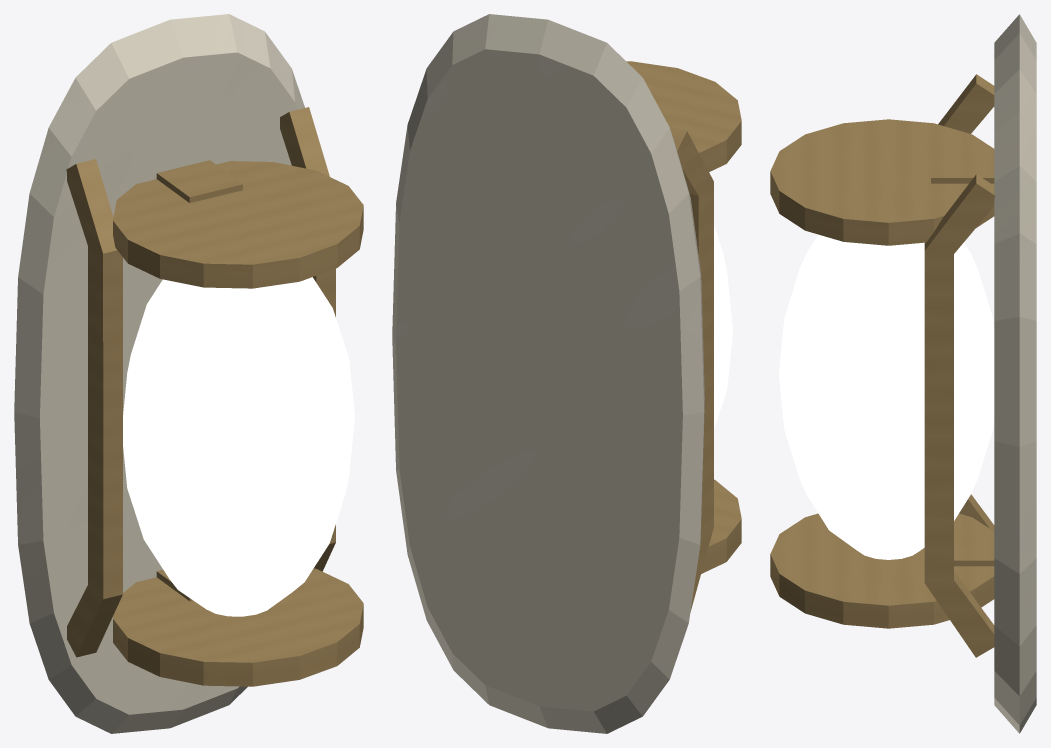
The model's file is AST-LGT-001.glb.
3 views of the same model, side by side, from view 1: azimuth 30°, elevation 25°; view 2: azimuth 150°, elevation 25°; view 3: azimuth 270°, elevation 25° (orthographic). The views are drawn at different scales.
Visible parts, largest first — view 1: LANTERN_ivory_enamel, LANTERN_champagne_metal, LANTERN_lens; view 2: LANTERN_ivory_enamel, LANTERN_champagne_metal, LANTERN_lens; view 3: LANTERN_champagne_metal, LANTERN_lens, LANTERN_ivory_enamel.
Part boxes in pixels (bbox=[...]): LANTERN_ivory_enamel: bbox=[14, 14, 304, 733]; LANTERN_champagne_metal: bbox=[66, 107, 363, 686]; LANTERN_lens: bbox=[123, 277, 354, 616]; LANTERN_ivory_enamel: bbox=[392, 14, 704, 733]; LANTERN_champagne_metal: bbox=[626, 61, 741, 611]; LANTERN_lens: bbox=[714, 225, 732, 428]; LANTERN_champagne_metal: bbox=[770, 74, 995, 657]; LANTERN_lens: bbox=[779, 234, 994, 559]; LANTERN_ivory_enamel: bbox=[994, 14, 1036, 733].
Bounding box in the file's own units: 0.41 × 0.89 × 0.315.
3 materials, 2 textured.
